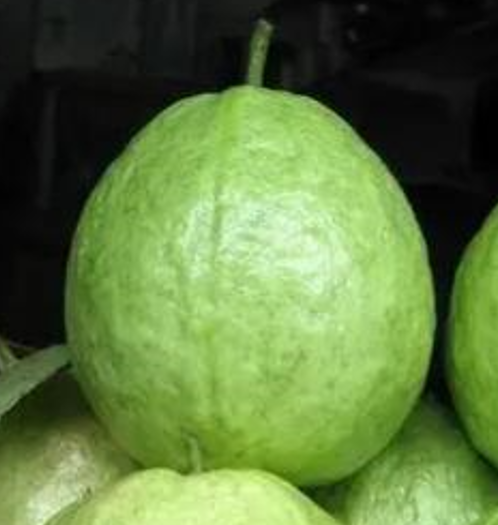guava_A: (65, 83, 436, 487)
